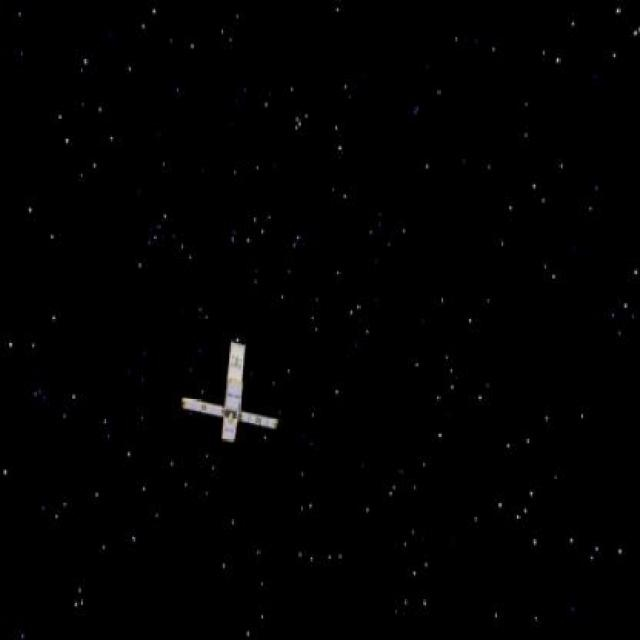medium_debris: (175, 330, 281, 450)
